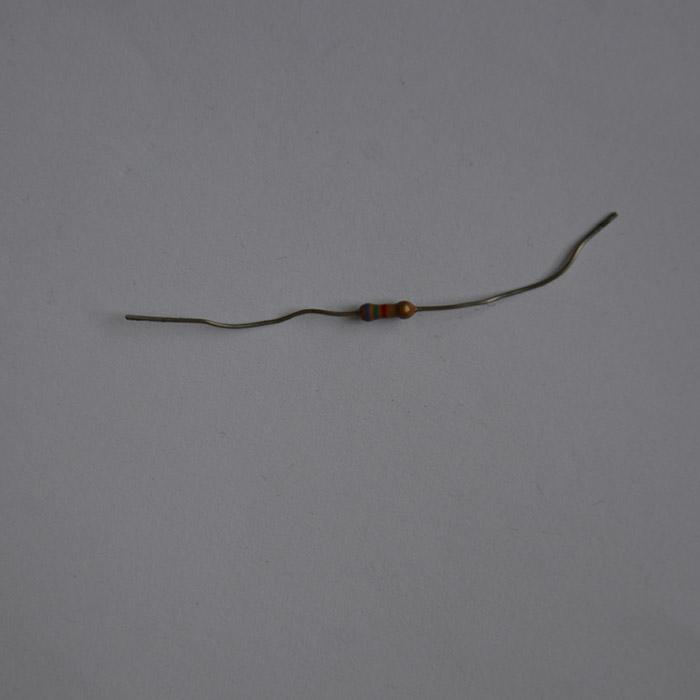resistor: (358, 300, 415, 321)
